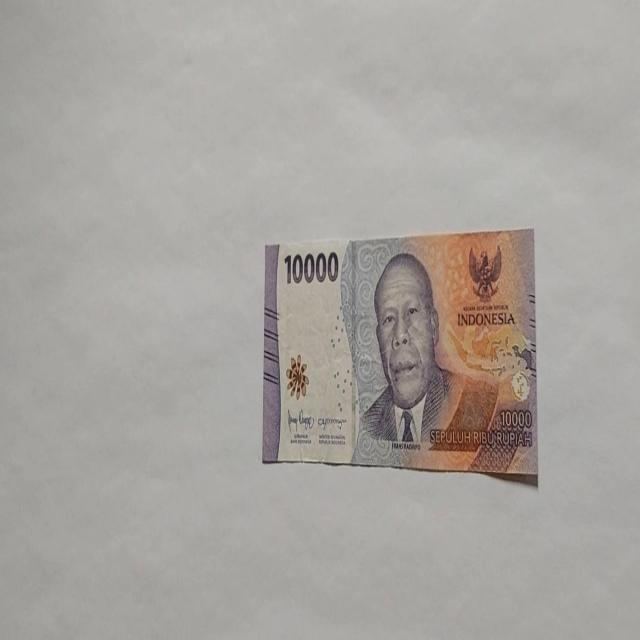Kertas: (262, 228, 538, 480), (282, 249, 340, 285)
